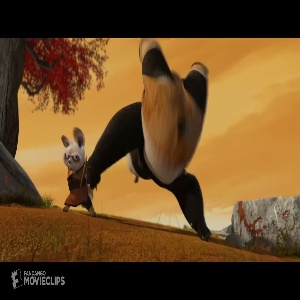po: (85, 39, 218, 241)
shifu: (55, 125, 100, 217)
